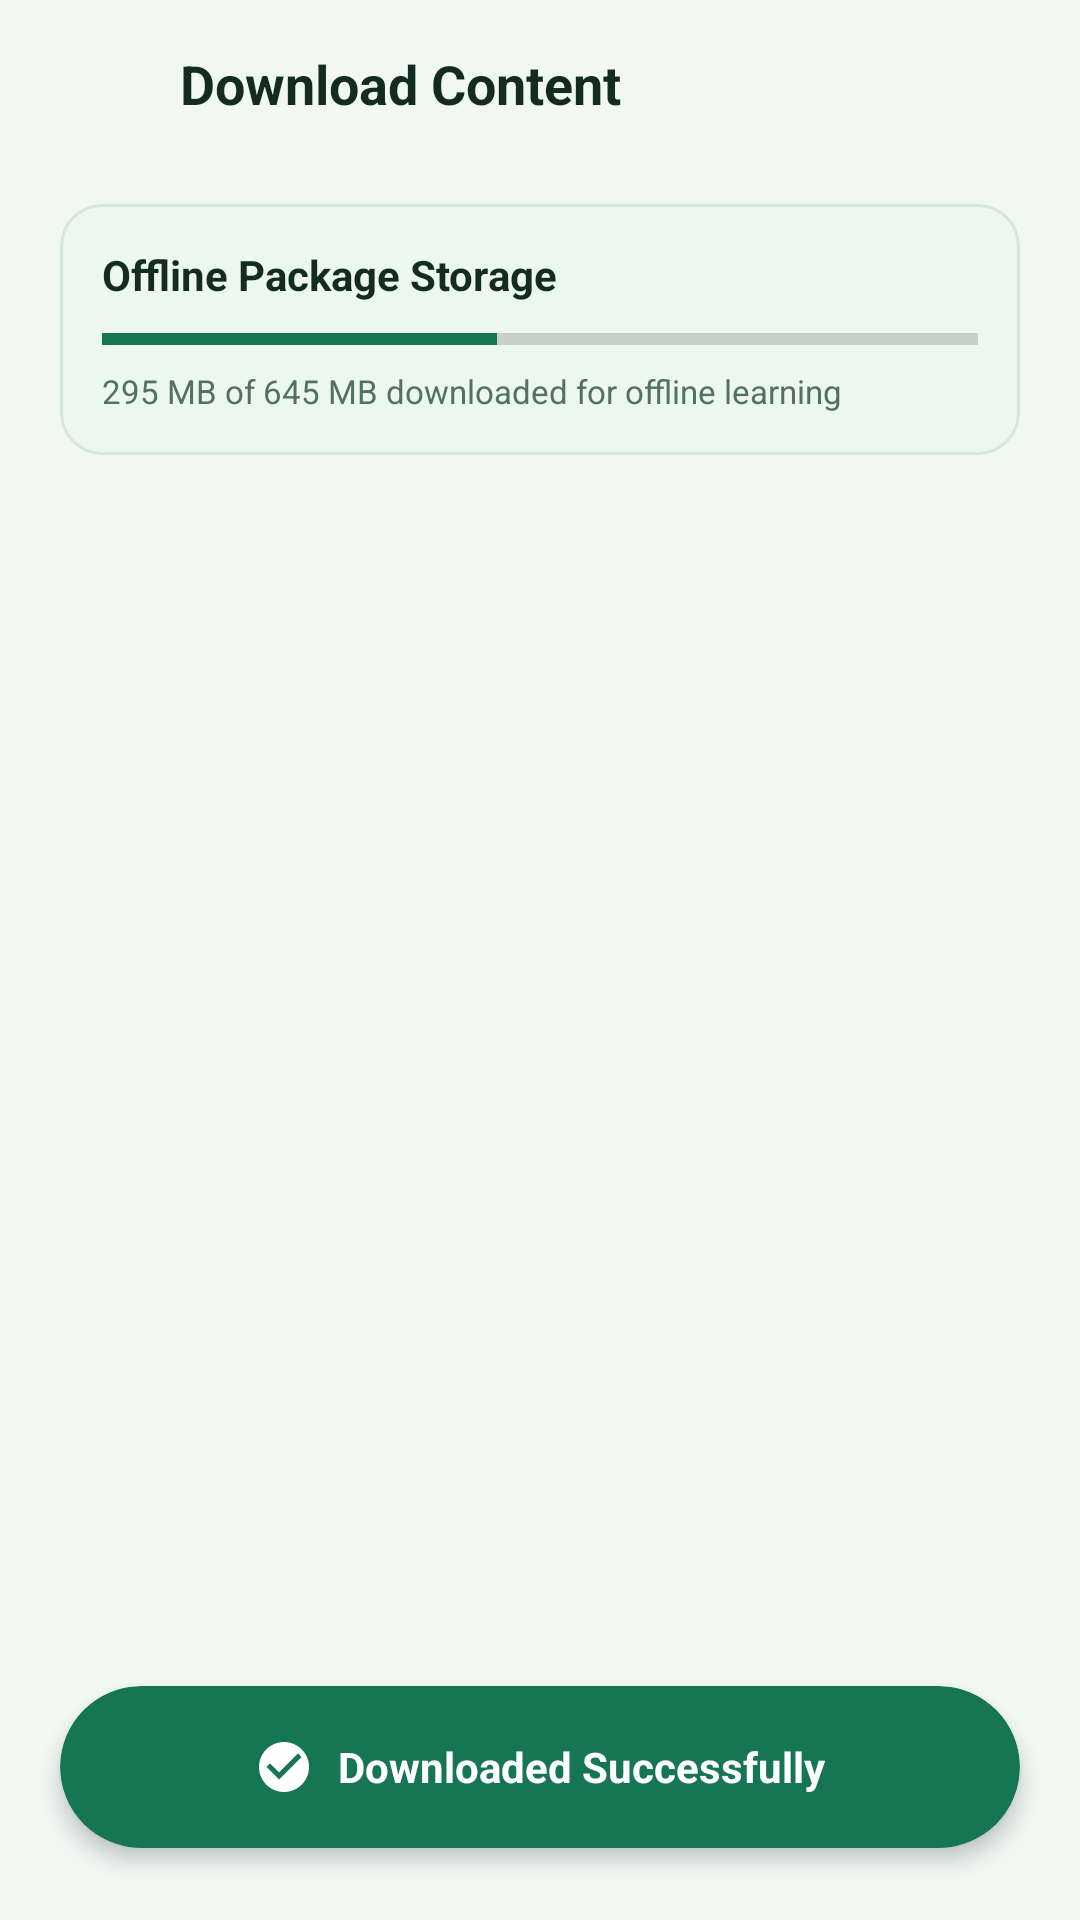

Icons on this 1080*1920 Android screen, each with the point to tap as point (x, y):
Check: point (284, 1767)
